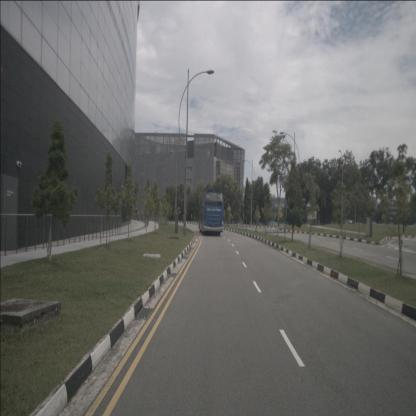vehicle-bus-rigid: (198, 190, 224, 236)
